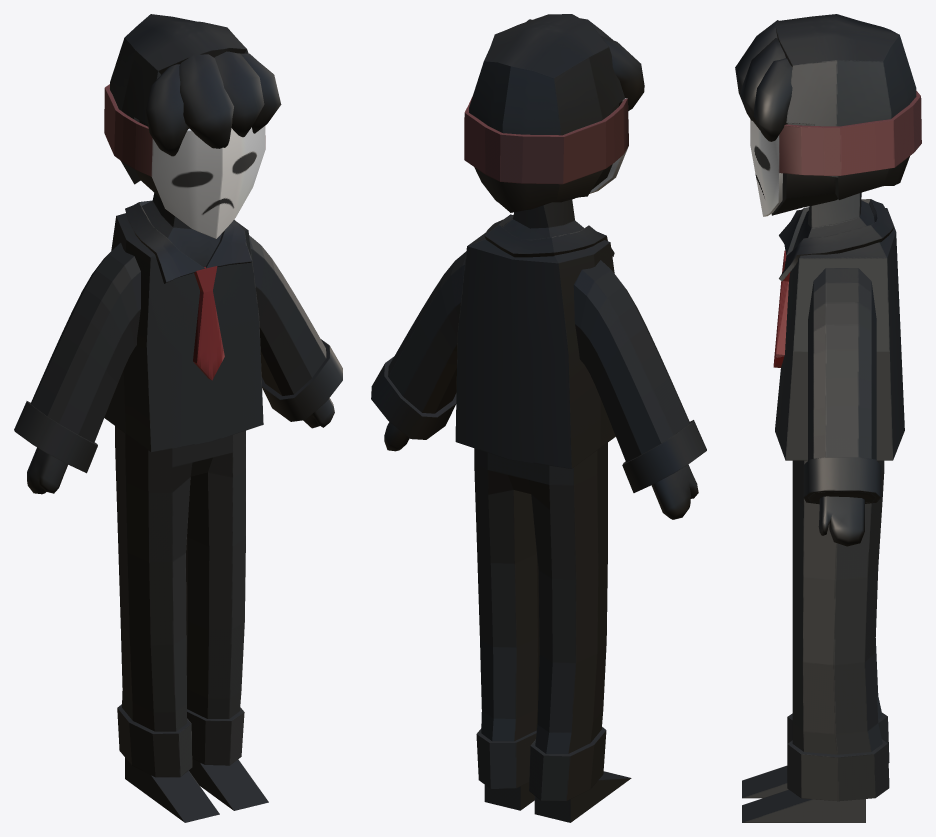
The model's file is BROTEXTURED.fbx.
3 renders of one model, left to right at view 1: azimuth 30°, elevation 25°; view 2: azimuth 150°, elevation 25°; view 3: azimuth 270°, elevation 25°, orthographic. The views are drawn at different scales.
Visible parts, largest first — view 1: Brother; view 2: Brother; view 3: Brother.
Part boxes in pixels (x1,y1,x2,y2): Brother: (14, 14, 342, 822); Brother: (371, 14, 706, 822); Brother: (735, 14, 921, 822).
Size of the model in its own units: 350 by 812 by 176.
